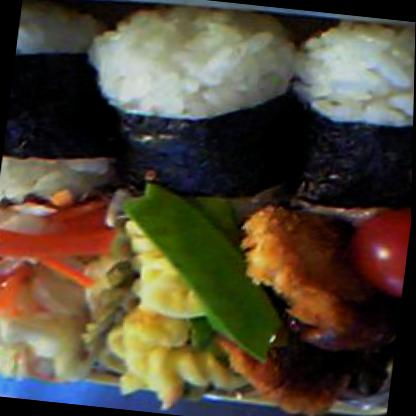rice roll: (90, 0, 292, 207), (262, 38, 414, 225), (0, 0, 103, 198)
